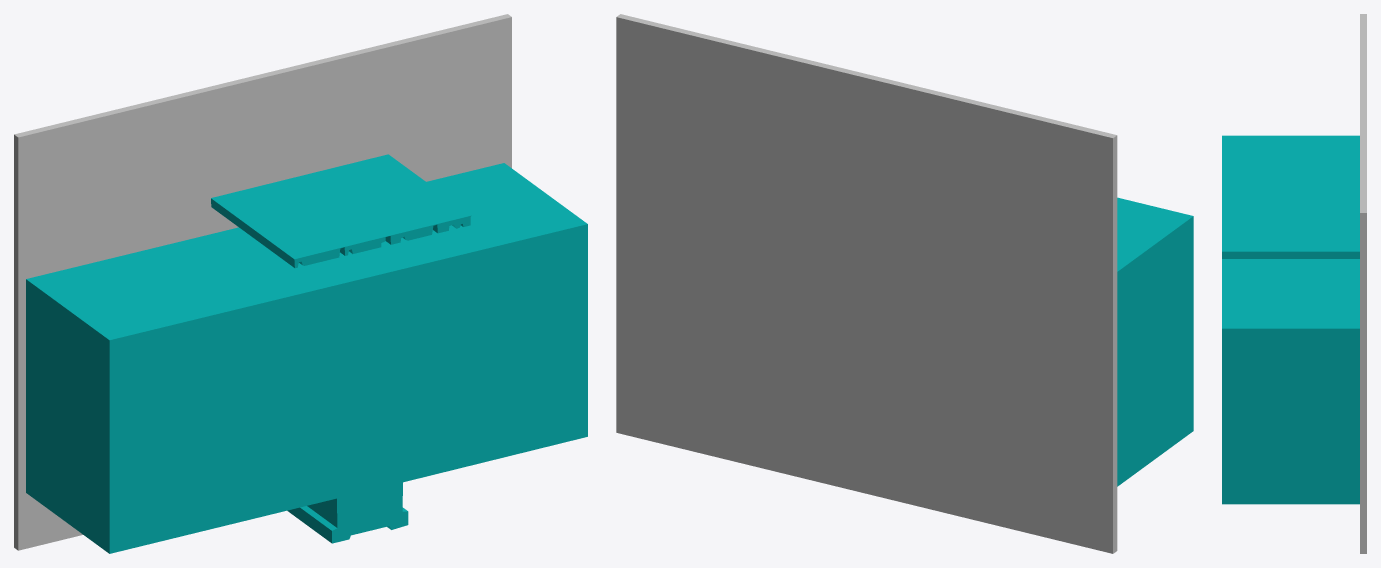
The picture shows the model from 3 angles, left to right: view 1: azimuth 30°, elevation 25°; view 2: azimuth 150°, elevation 25°; view 3: azimuth 270°, elevation 25°; orthographic projection. The views are drawn at different scales.
Visible parts, largest first — view 1: world; view 2: world; view 3: world.
Part boxes in pixels (x1,y1,x2,y2): world: (14, 14, 587, 553); world: (616, 14, 1193, 553); world: (1222, 14, 1366, 553).
Bounding box in the file's own units: 10.23 × 8.18 × 3.15.
